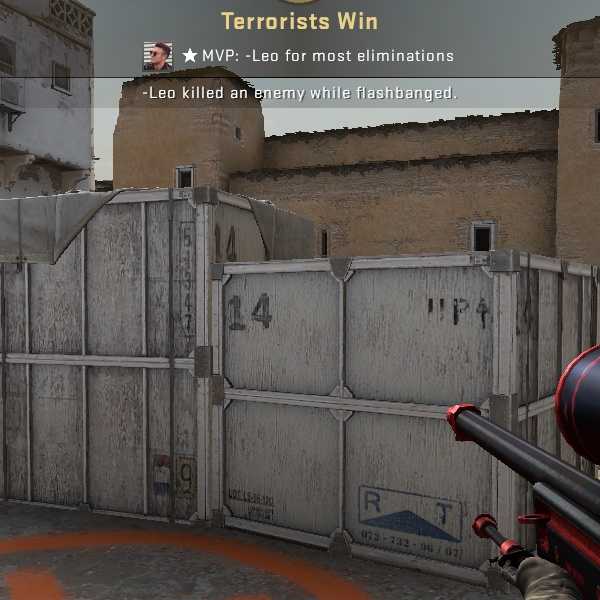t_body: (441, 343, 596, 600)
